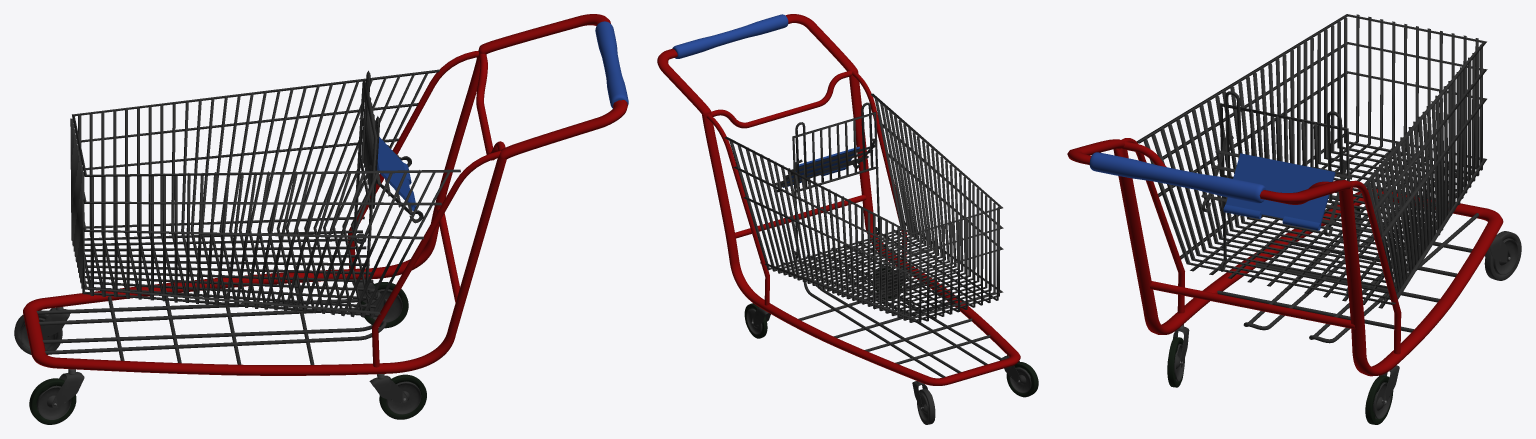
File: cart.glb
3 views of the same model, side by side, from view 1: azimuth 30°, elevation 25°; view 2: azimuth 150°, elevation 25°; view 3: azimuth 270°, elevation 25° (orthographic). The views are drawn at different scales.
Parts seen in each view (by area): view 1: fgh, Rectangle001, Rectangle002, hjhj, Line011, Cylinder012, Line010, o, Line028, Loft006, Loft007, Shape001 (+4 smaller); view 2: fgh, Rectangle001, Rectangle002, hjhj, Cylinder012, Line028, Line010, l, Line011, Shape001, o, Loft006; view 3: fgh, Rectangle001, o, Rectangle002, hjhj, Cylinder012, Shape001, Line010, Line011, l, Loft05, Loft008 (+3 smaller).
Boxes of the visible parts, x1,y1,x2,y2 form: fgh: [70, 69, 460, 318]; Rectangle001: [23, 14, 627, 375]; Rectangle002: [36, 280, 386, 364]; hjhj: [353, 70, 379, 299]; Line011: [371, 151, 500, 367]; Cylinder012: [595, 21, 628, 108]; Line010: [348, 51, 478, 271]; o: [377, 137, 416, 210]; Line028: [476, 54, 505, 160]; Loft006: [29, 378, 76, 424]; Loft007: [379, 374, 426, 419]; Shape001: [436, 208, 459, 302]; fgh: [724, 93, 1003, 323]; Rectangle001: [657, 14, 1020, 385]; Rectangle002: [798, 265, 1003, 377]; hjhj: [792, 102, 879, 259]; Cylinder012: [672, 14, 788, 58]; Line028: [711, 70, 852, 128]; Line010: [706, 114, 769, 305]; l: [775, 138, 875, 192]; Line011: [852, 70, 906, 262]; Shape001: [735, 195, 866, 238]; o: [783, 146, 859, 187]; Loft006: [1006, 362, 1038, 397]; fgh: [1136, 14, 1487, 308]; Rectangle001: [1067, 139, 1503, 376]; o: [1223, 153, 1335, 230]; Rectangle002: [1217, 197, 1478, 343]; hjhj: [1219, 91, 1349, 296]; Cylinder012: [1089, 152, 1266, 203]; Shape001: [1150, 281, 1355, 329]; Line010: [1350, 180, 1401, 354]; Line011: [1117, 138, 1184, 313]; l: [1201, 135, 1352, 236]; Loft05: [1484, 231, 1521, 280]; Loft008: [1365, 375, 1393, 424].
Size of the model in its own units: 142 by 78.09 by 99.11.
